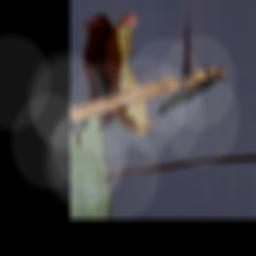Swallow: (151, 65, 229, 117)
